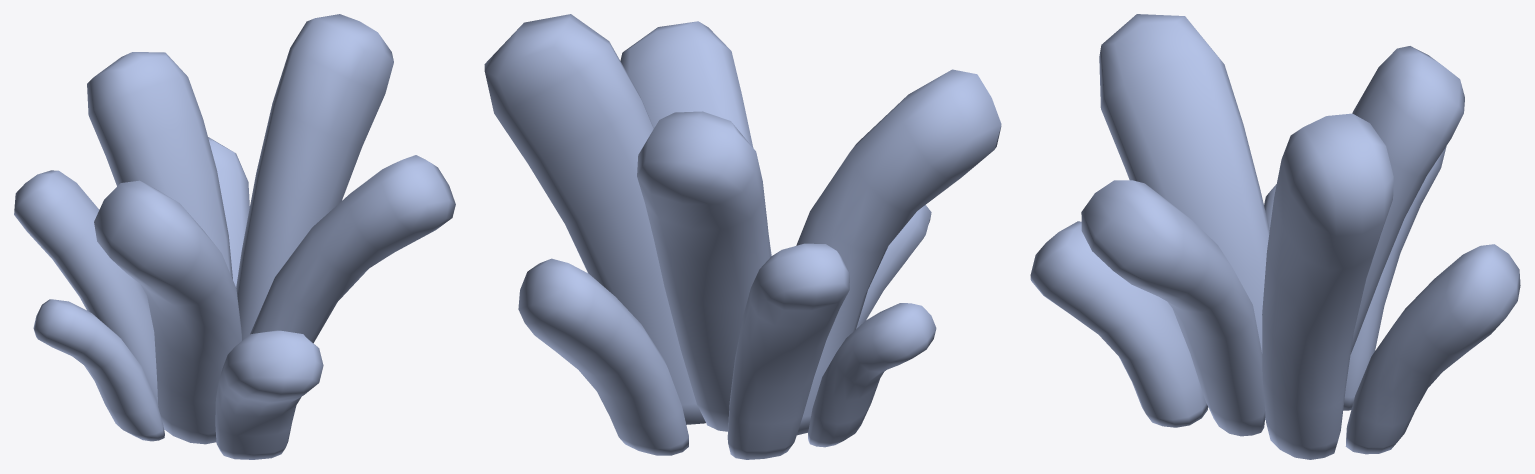
File: Anemone_A_03.fbx
3 views of the same model, side by side, from view 1: azimuth 30°, elevation 25°; view 2: azimuth 150°, elevation 25°; view 3: azimuth 270°, elevation 25° (orthographic). The views are drawn at different scales.
Visible parts, largest first — view 1: Anemone_A_03_LOD0; view 2: Anemone_A_03_LOD0; view 3: Anemone_A_03_LOD0.
Boxes of the visible parts, box(x1,y1,x2,y2) form: Anemone_A_03_LOD0: box(14, 14, 455, 459); Anemone_A_03_LOD0: box(484, 14, 1001, 459); Anemone_A_03_LOD0: box(1030, 14, 1520, 459).
Size of what is drawn, in the model's own units: 367 by 322 by 377.
